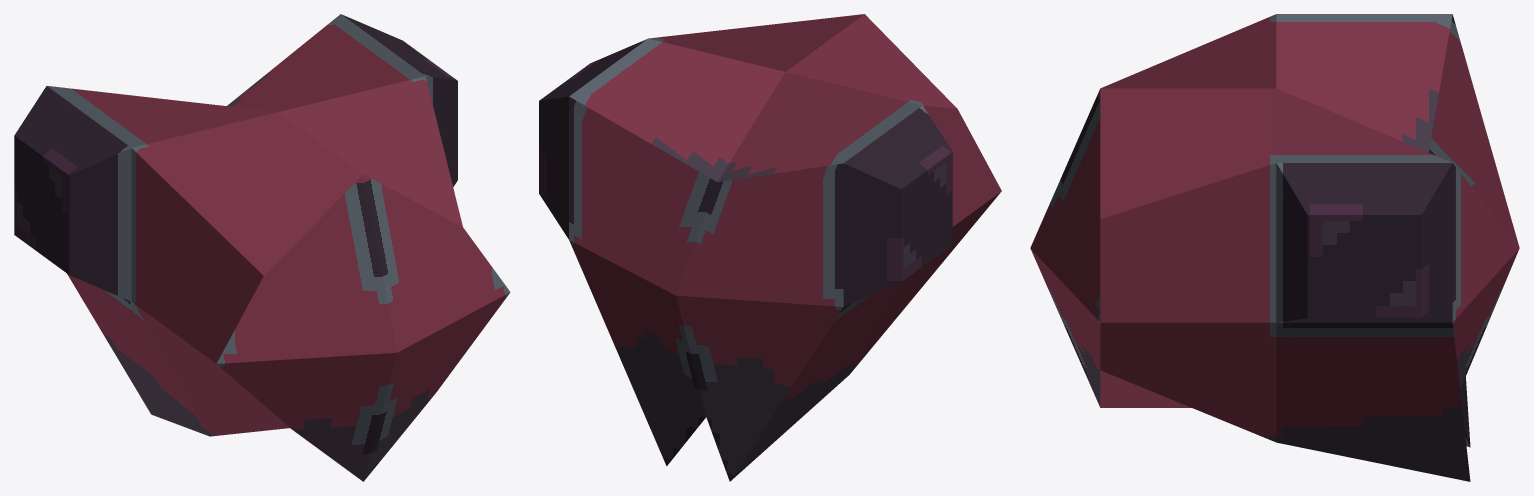
File: mantis_head.glb
The picture shows the model from 3 angles, left to right: view 1: azimuth 30°, elevation 25°; view 2: azimuth 150°, elevation 25°; view 3: azimuth 270°, elevation 25°; orthographic projection. The views are drawn at different scales.
Visible parts, largest first — view 1: Cube.143; view 2: Cube.143; view 3: Cube.143.
Part boxes in pixels (left/top/right/bottom): Cube.143: left=14, top=14, right=510, bottom=481; Cube.143: left=539, top=14, right=1001, bottom=481; Cube.143: left=1030, top=14, right=1519, bottom=481.
Size of the model in its own units: 2.64 by 2.36 by 2.78.
1 material, 1 textured.
